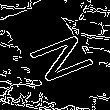N_NE: (14, 26, 96, 84)
